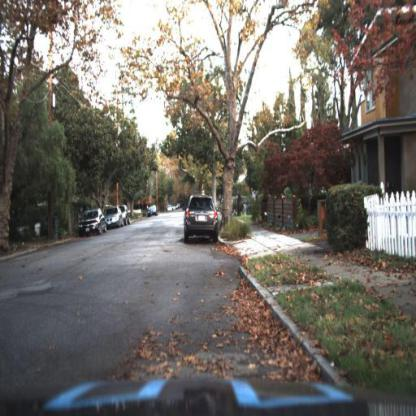car: (182, 194, 220, 245), (79, 208, 106, 239), (105, 206, 122, 231), (147, 203, 159, 218), (122, 207, 130, 227)
